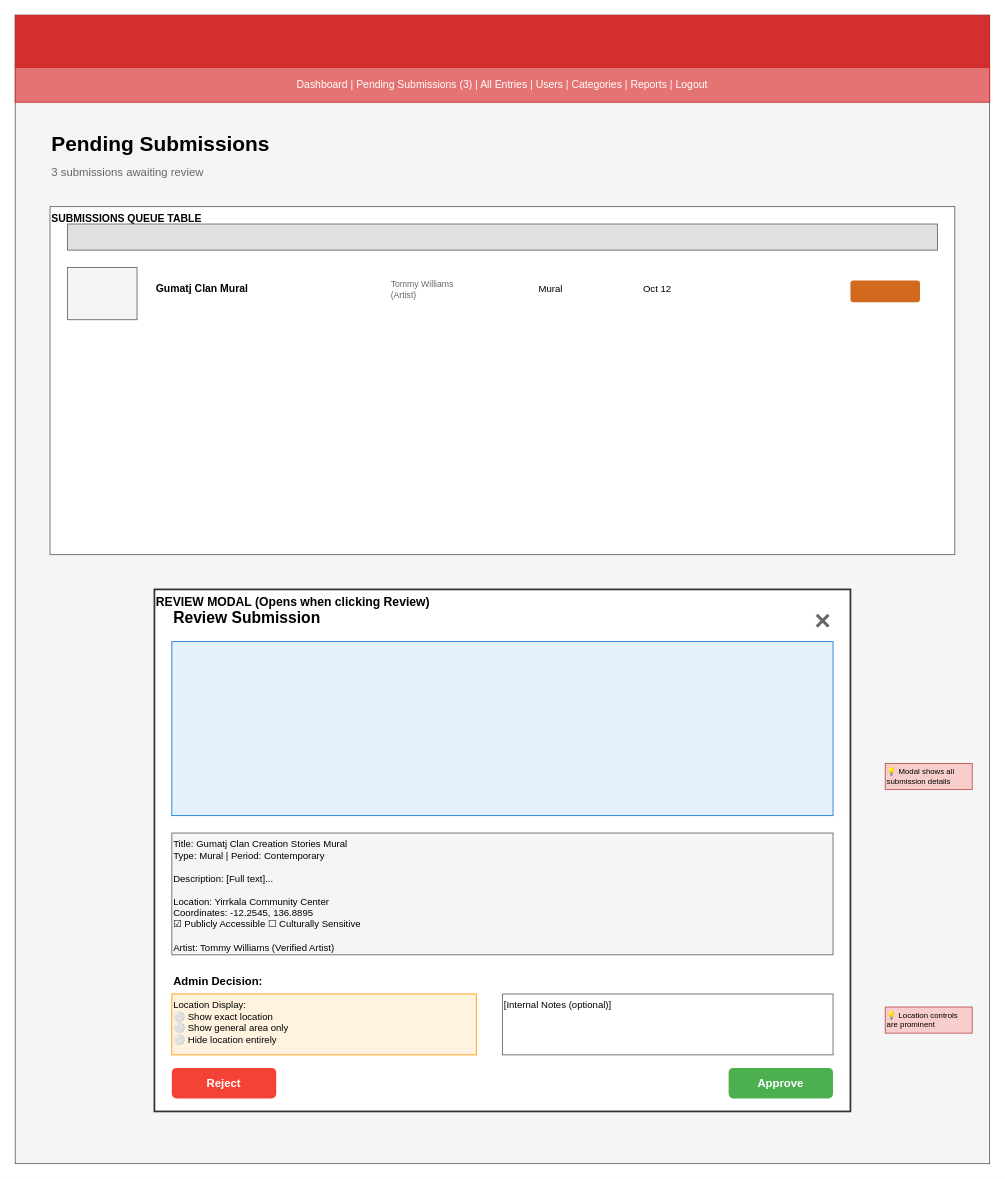
Image size: 1005x1179. Some labels were removed from this diagram. The centre of each missing label's shape, as x and y in pixels:
[ IMAGE GALLERY - Full Size ] 🖼️ Multiple images with navigation: (502,728)
[img]: (102,293)
Review: (885,291)
Thumb | Title | Submitter | Type | Submitted | Actions: (502,236)
🔒 ADMIN PANEL - Indigenous Art Atlas: (502,40)
